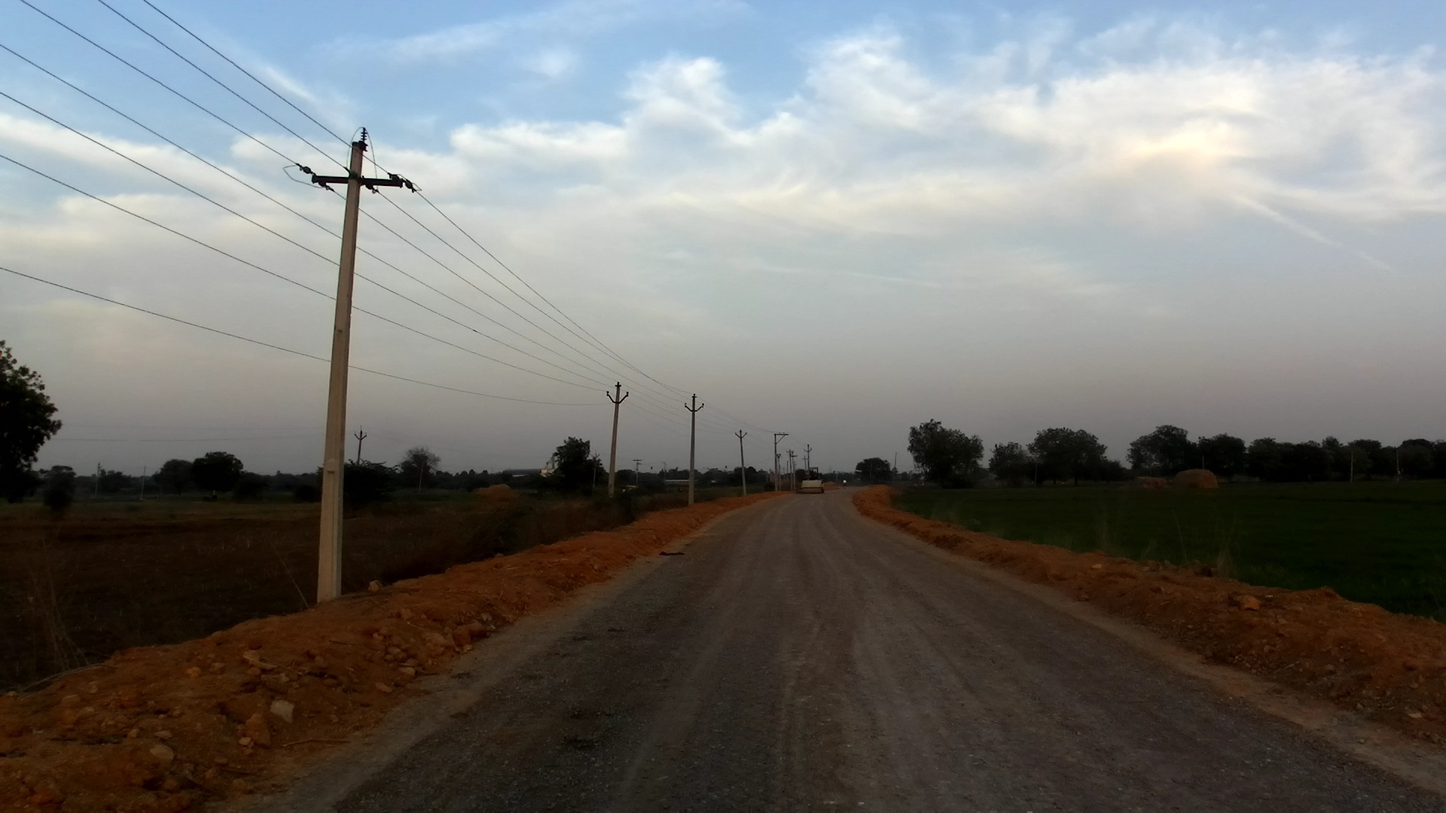vehicle fallback: (799, 474, 824, 495), (838, 478, 847, 488)
